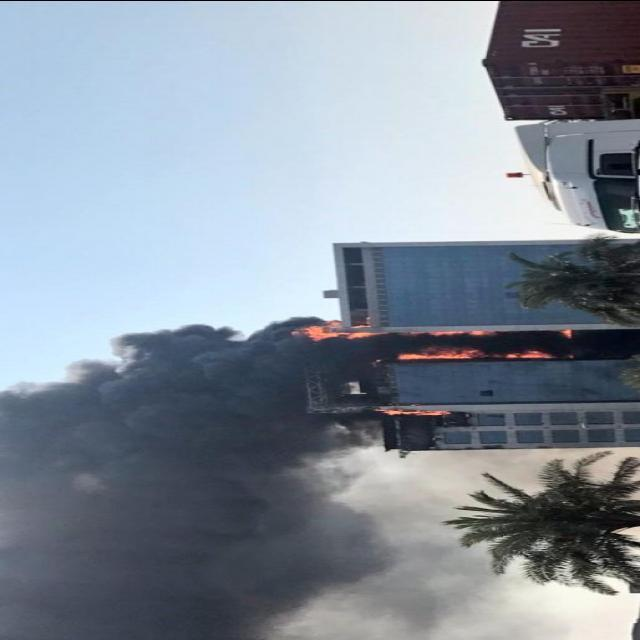Fire: (298, 322, 570, 362), (372, 402, 453, 418)
